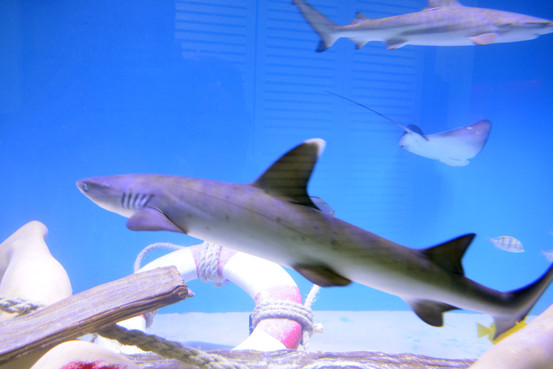shark: (49, 121, 553, 347), (275, 1, 553, 64)
